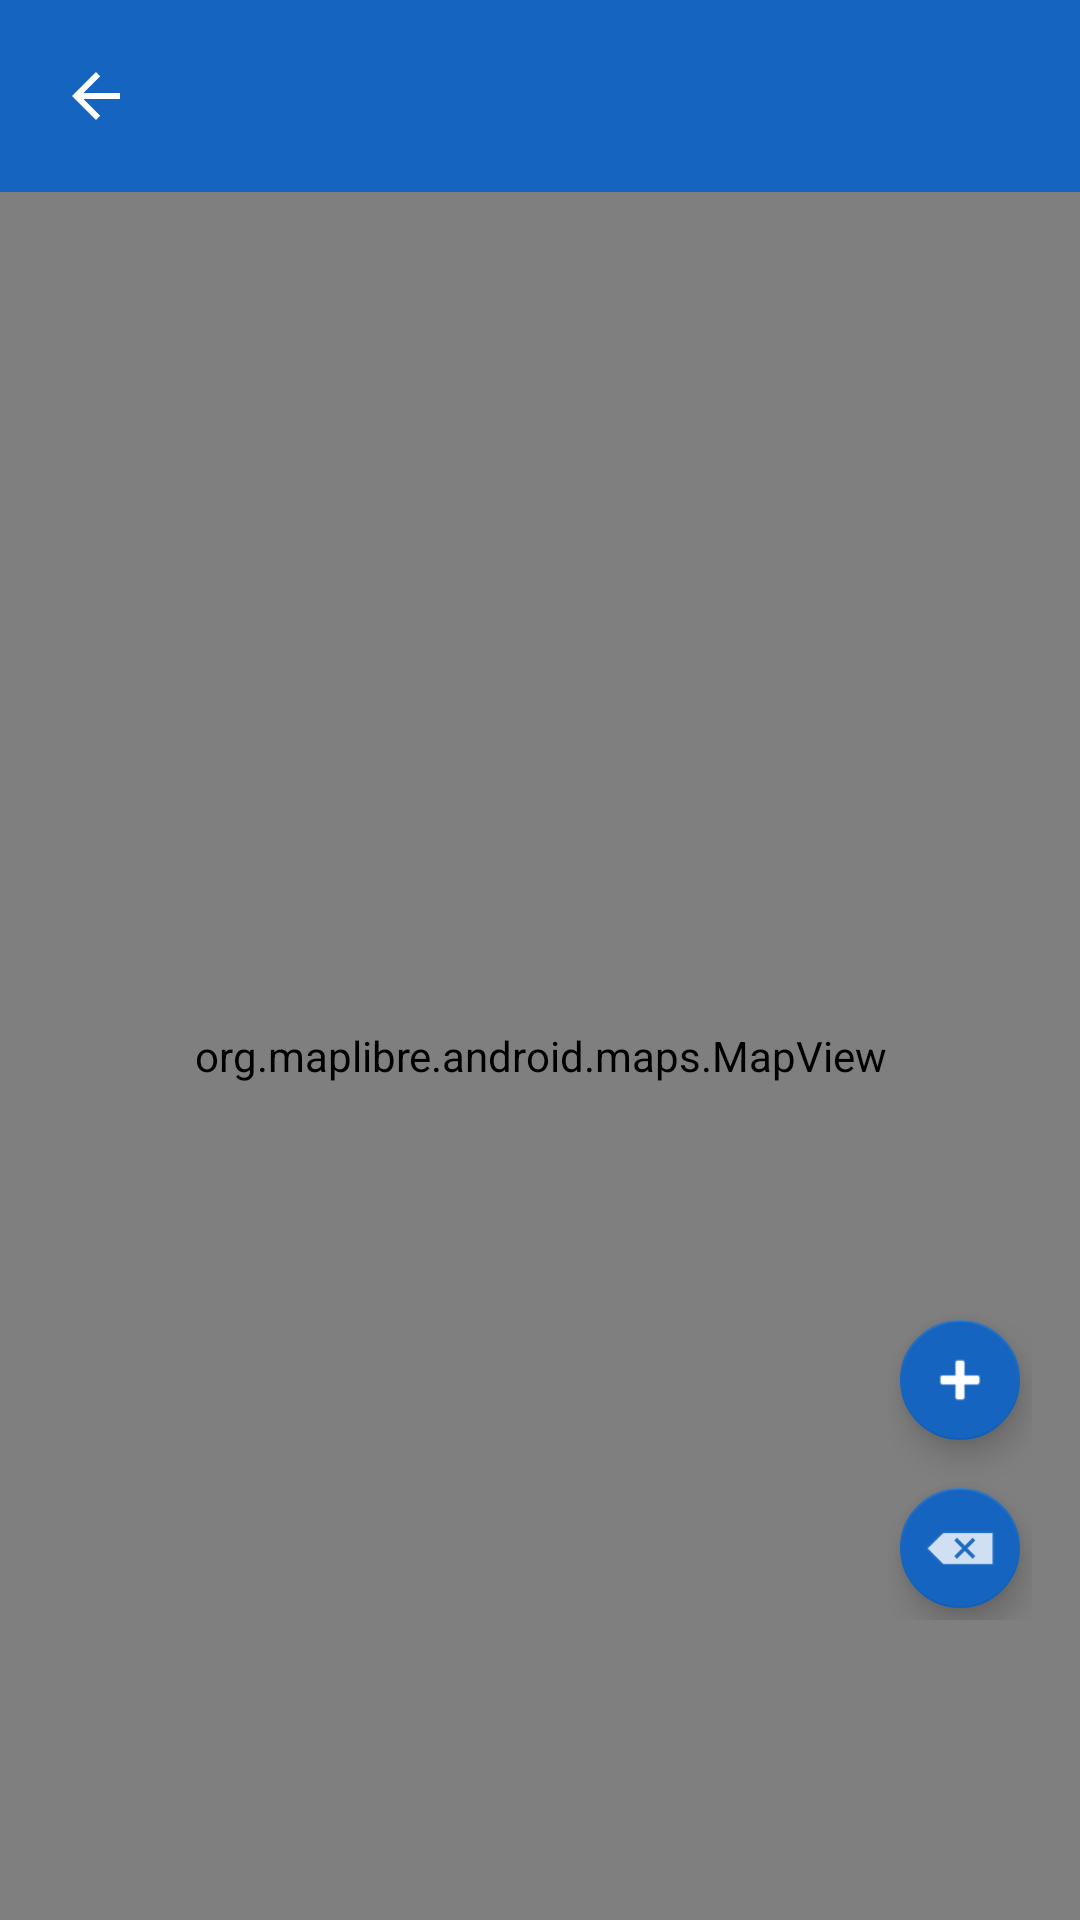

Where to tap for icons on this 1080*1920 app screen, as (x=x, y=y):
Acercar mapa: (x=960, y=1380)
Regresar: (x=96, y=96)
